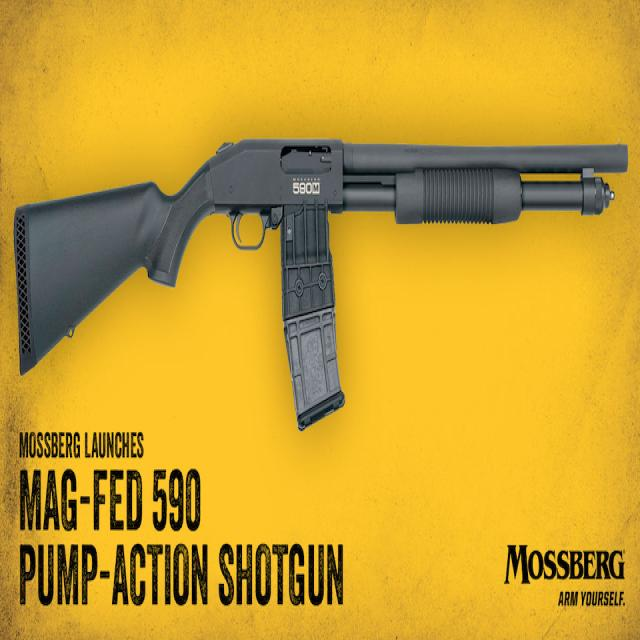ShotGun: (13, 140, 630, 376)
